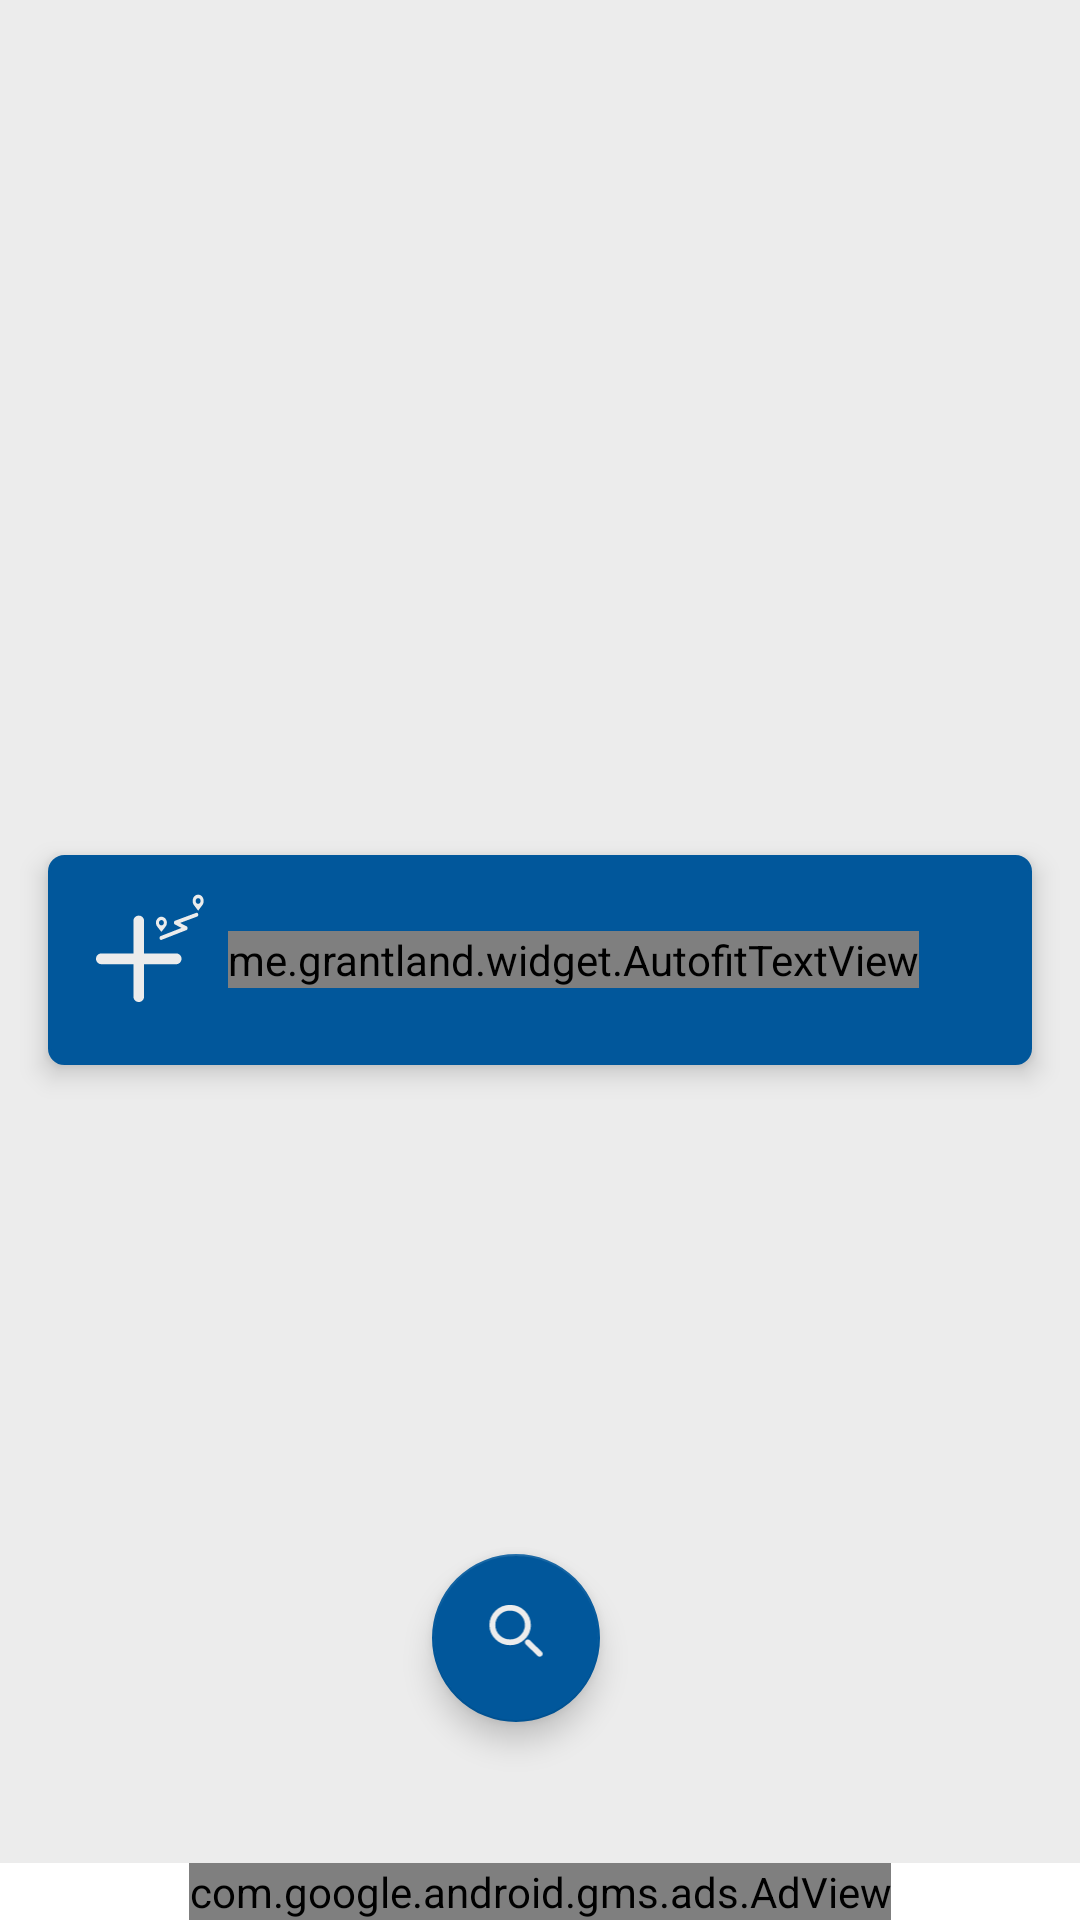

Where to tap for icons on this 1080 × 1920 app screen, as (x=x, y=y):
Aggiungi tratta ai preferiti: (x=150, y=948)
search: (x=516, y=1638)
